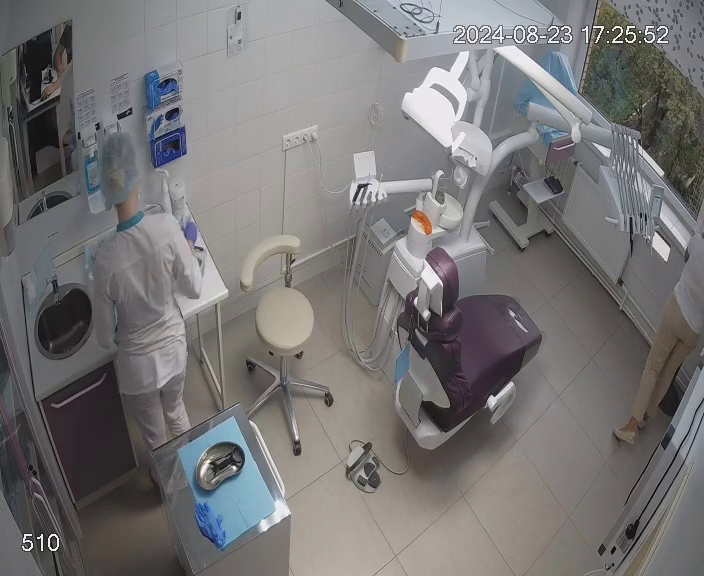Empty: (390, 248, 544, 453)
